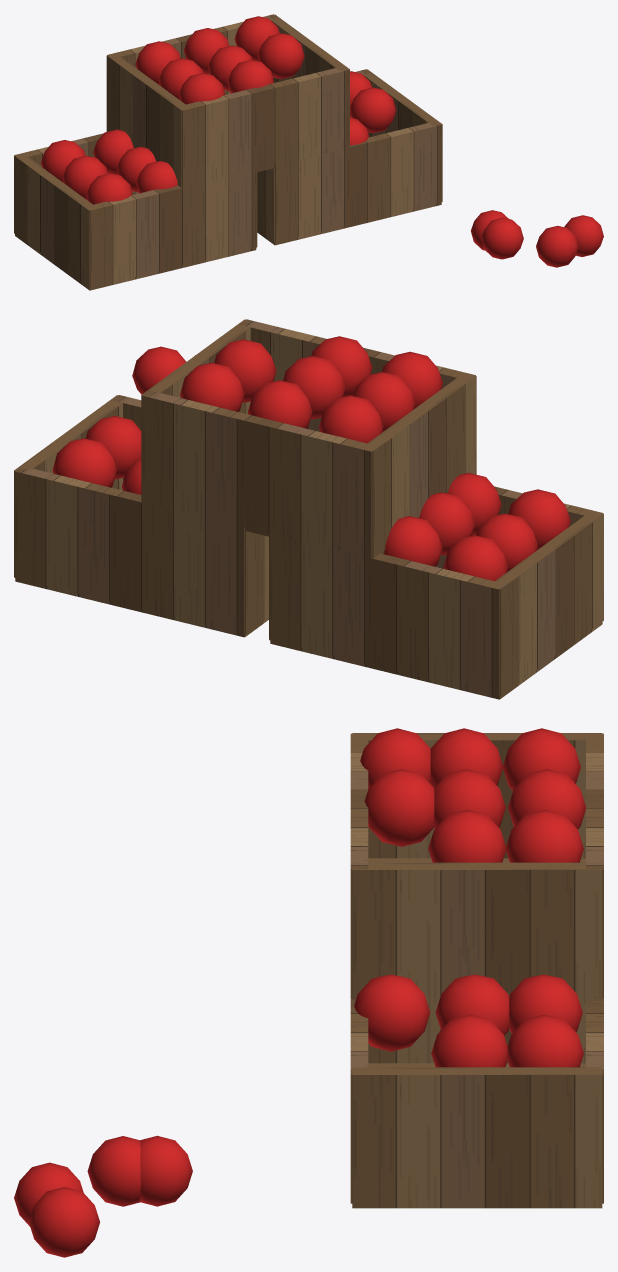
The model's file is applecrates.glb.
3 views of the same model, one above another, from view 1: azimuth 30°, elevation 25°; view 2: azimuth 150°, elevation 25°; view 3: azimuth 270°, elevation 25° (orthographic). The views are drawn at different scales.
Parts seen in each view (by area): view 1: applecrates; view 2: applecrates; view 3: applecrates.
Part boxes in pixels (left/top/right/bottom): applecrates: left=14, top=14, right=603, bottom=290; applecrates: left=14, top=319, right=603, bottom=699; applecrates: left=14, top=728, right=603, bottom=1257.
Size of the model in its own units: 2.3 by 0.91 by 1.65.
2 materials, 1 textured.
